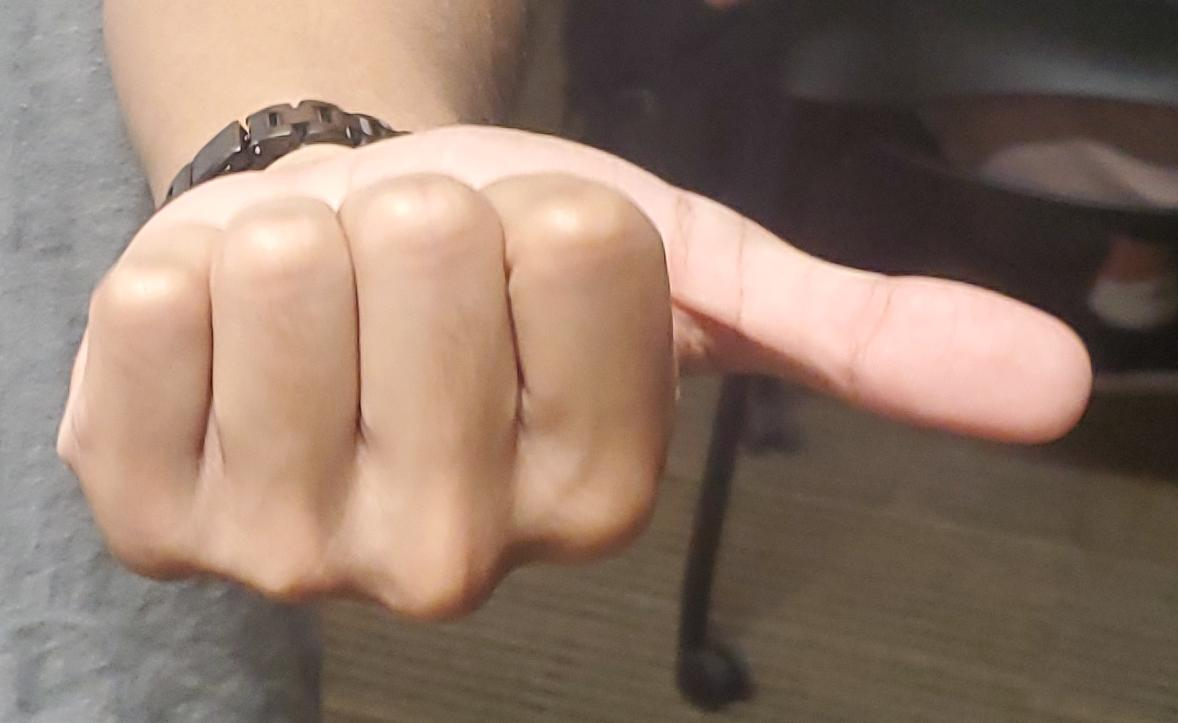left: (1, 0, 1178, 723)
